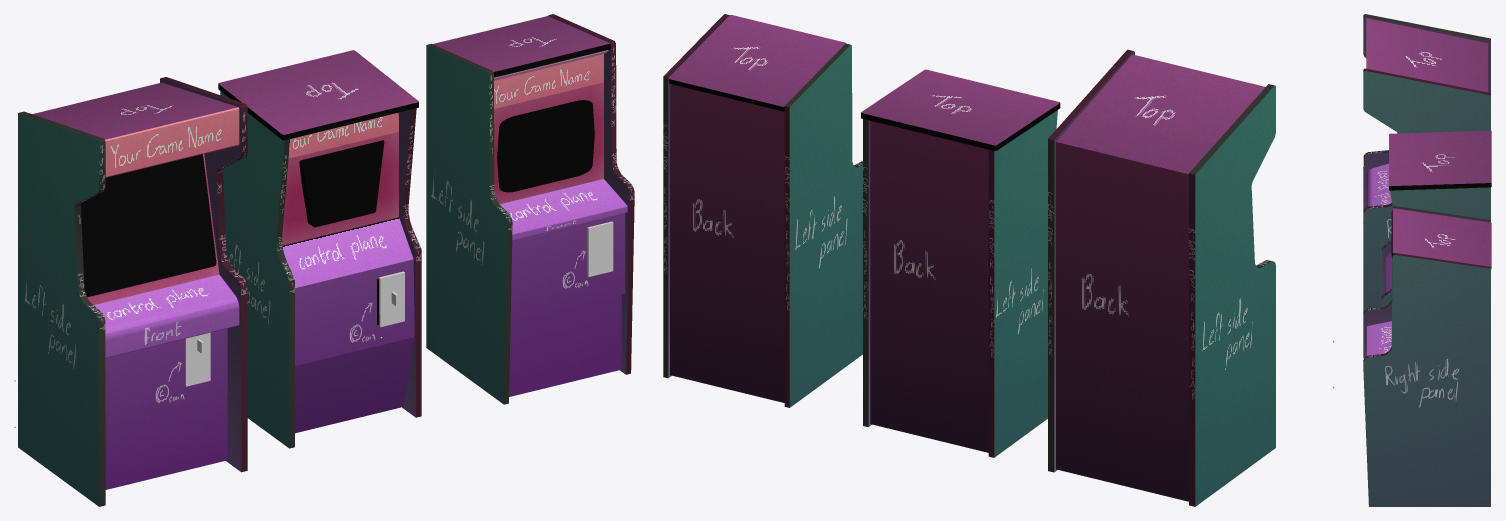
The model's file is cabinet-Assets.glb.
The picture shows the model from 3 angles, left to right: view 1: azimuth 30°, elevation 25°; view 2: azimuth 150°, elevation 25°; view 3: azimuth 270°, elevation 25°; orthographic projection. The views are drawn at different scales.
Parts seen in each view (by area): view 1: sides.001, Rushn Attack, sides.003, Space Invaders, Pong, sides.002, screen cutout-noimp.001, top, screen cutout-noimp.003, top.001, screen cutout-noimp.002, coin box-noimp.003 (+2 smaller); view 2: Rushn Attack, Pong, Space Invaders, sides.001, sides.003, sides.002, top.001, top; view 3: sides.003, sides.001, Rushn Attack, top, top.001, sides.002, Space Invaders, Pong.
Boxes of the visible parts, box(x1,y1,x2,y2) form: sides.001: box(18, 77, 247, 506); Rushn Attack: box(32, 82, 239, 489); sides.003: box(426, 14, 634, 404); Space Invaders: box(494, 50, 627, 396); Pong: box(282, 112, 414, 433); sides.002: box(220, 91, 421, 448); screen cutout-noimp.001: box(81, 154, 216, 296); top: box(218, 50, 418, 140); screen cutout-noimp.003: box(497, 100, 594, 192); top.001: box(432, 16, 610, 77); screen cutout-noimp.002: box(299, 140, 384, 227); coin box-noimp.003: box(587, 221, 613, 276); Rushn Attack: box(1056, 54, 1265, 501); Pong: box(870, 121, 988, 452); Space Invaders: box(670, 84, 784, 402); sides.001: box(1048, 49, 1275, 506); sides.003: box(663, 14, 862, 407); sides.002: box(863, 110, 1057, 457); top.001: box(668, 15, 846, 111); top: box(861, 69, 1060, 150); sides.003: box(1363, 206, 1490, 506); sides.001: box(1363, 14, 1490, 358); Rushn Attack: box(1366, 18, 1488, 207); top: box(1389, 130, 1491, 190); top.001: box(1391, 208, 1491, 269); sides.002: box(1382, 187, 1490, 306); Space Invaders: box(1366, 321, 1391, 356); Pong: box(1385, 252, 1391, 293).
Bounding box in the file's own units: 2.9 × 1.67 × 0.6758.
1 material, 1 textured.
